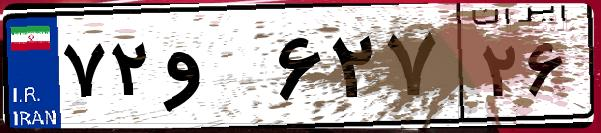2: (330, 28, 385, 110), (475, 38, 525, 113), (110, 28, 158, 98)
6: (270, 28, 330, 110), (525, 38, 570, 115)
7: (385, 28, 445, 110), (57, 26, 110, 100)
و: (158, 20, 270, 120)
